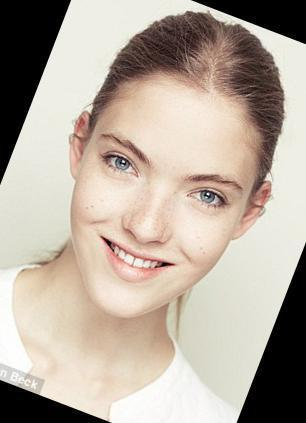Sober: (79, 92, 245, 296)
